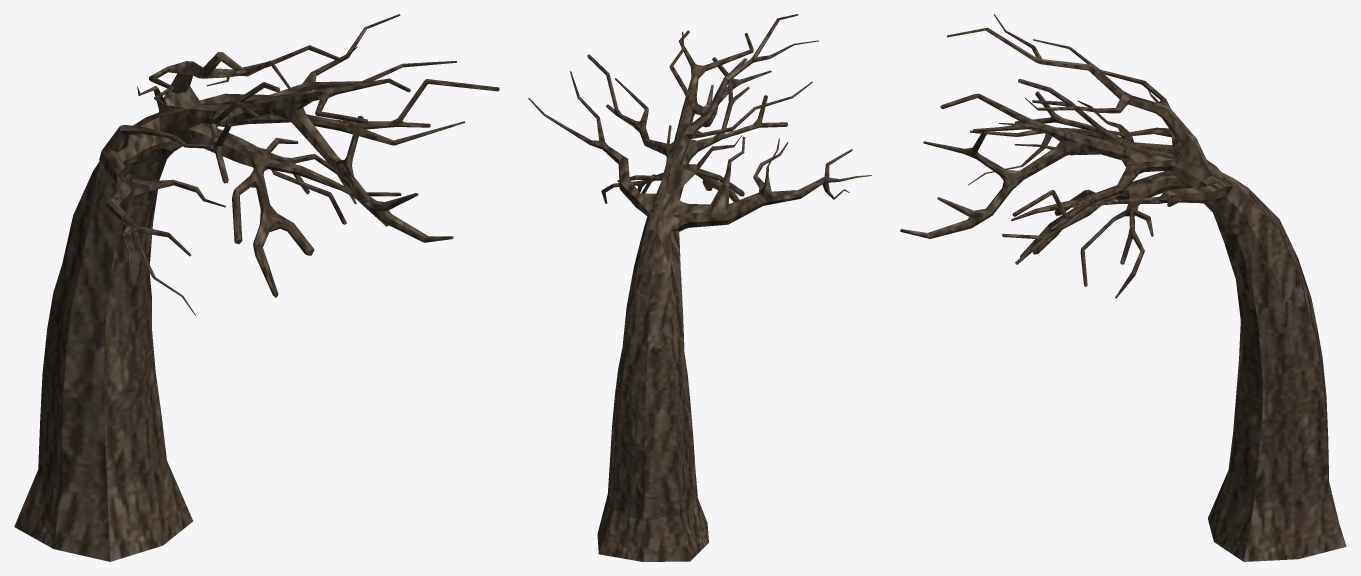
Rendered from Tree7.fbx.
The picture shows the model from 3 angles, left to right: view 1: azimuth 30°, elevation 25°; view 2: azimuth 150°, elevation 25°; view 3: azimuth 270°, elevation 25°; orthographic projection. The views are drawn at different scales.
Parts seen in each view (by area): view 1: tree_07; view 2: tree_07; view 3: tree_07.
Boxes of the visible parts, x1,y1,x2,y2 form: tree_07: (14, 14, 499, 561); tree_07: (528, 14, 871, 561); tree_07: (900, 14, 1346, 561).
Bounding box in the file's own units: 5.39 × 7.97 × 6.4.
